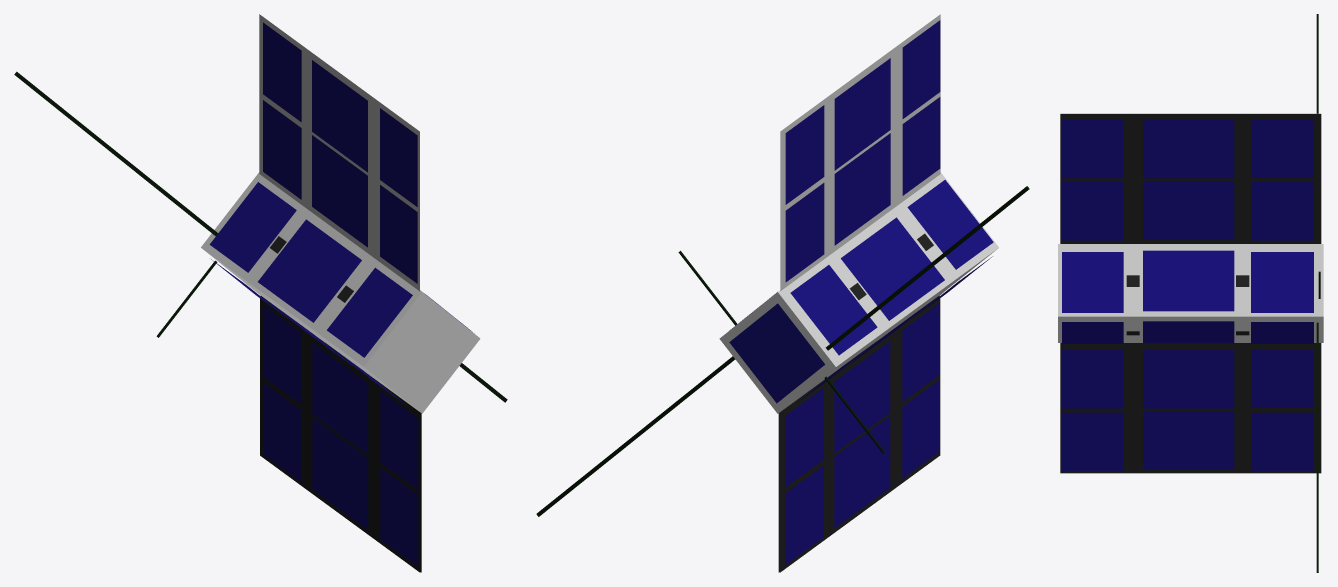
File: lemur.obj
3 views of the same model, side by side, from view 1: azimuth 30°, elevation 25°; view 2: azimuth 150°, elevation 25°; view 3: azimuth 270°, elevation 25° (orthographic). The views are drawn at different scales.
Parts seen in each view (by area): view 1: Cube, Plane.064, Plane.069, ReducedSolarCell.035, ReducedSolarCell.022, ReducedSolarCell.023, ReducedSolarCell.028, ReducedSolarCell.029, ReducedSolarCell.033, ReducedSolarCell.034, ReducedSolarCell.025, ReducedSolarCell.019 (+7 smaller); view 2: Cube, Plane.064, Plane.069, ReducedSolarCell.035, ReducedSolarCell.036, ReducedSolarCell.028, ReducedSolarCell.029, ReducedSolarCell.022, ReducedSolarCell.023, ReducedSolarCell.033, ReducedSolarCell.034, ReducedSolarCell.025 (+9 smaller); view 3: Plane.141, Plane.142, Cube, ReducedSolarCell.014, ReducedSolarCell.004, ReducedSolarCell.010, ReducedSolarCell.011, ReducedSolarCell.005, ReducedSolarCell.012, ReducedSolarCell.013, ReducedSolarCell.003, ReducedSolarCell (+10 smaller).
Part boxes in pixels (x1,y1,x2,y2): Cube: [201, 172, 480, 413]; Plane.064: [259, 14, 419, 291]; Plane.069: [260, 296, 420, 572]; ReducedSolarCell.035: [258, 219, 361, 322]; ReducedSolarCell.022: [312, 418, 368, 529]; ReducedSolarCell.023: [312, 343, 368, 454]; ReducedSolarCell.028: [312, 135, 367, 247]; ReducedSolarCell.029: [312, 60, 367, 172]; ReducedSolarCell.033: [209, 182, 296, 272]; ReducedSolarCell.034: [327, 267, 412, 357]; ReducedSolarCell.025: [263, 22, 301, 122]; ReducedSolarCell.019: [263, 305, 301, 404]; Cube: [719, 173, 998, 413]; Plane.064: [780, 14, 940, 290]; Plane.069: [779, 296, 940, 572]; ReducedSolarCell.035: [841, 217, 944, 320]; ReducedSolarCell.036: [729, 303, 824, 403]; ReducedSolarCell.028: [834, 133, 890, 245]; ReducedSolarCell.029: [834, 58, 890, 170]; ReducedSolarCell.022: [834, 416, 890, 528]; ReducedSolarCell.023: [834, 341, 890, 453]; ReducedSolarCell.033: [790, 265, 877, 355]; ReducedSolarCell.034: [907, 180, 993, 269]; ReducedSolarCell.025: [785, 105, 824, 204]; Plane.141: [1060, 343, 1321, 473]; Plane.142: [1060, 114, 1321, 243]; Cube: [1058, 244, 1323, 342]; ReducedSolarCell.014: [1143, 250, 1234, 311]; ReducedSolarCell.004: [1143, 119, 1234, 178]; ReducedSolarCell.010: [1143, 350, 1234, 408]; ReducedSolarCell.011: [1143, 411, 1234, 469]; ReducedSolarCell.005: [1143, 181, 1234, 239]; ReducedSolarCell.012: [1251, 252, 1313, 312]; ReducedSolarCell.013: [1062, 252, 1123, 312]; ReducedSolarCell.003: [1062, 119, 1123, 178]; ReducedSolarCell: [1251, 119, 1313, 177].
Bounding box in the file's own units: 0.9 × 0.7849 × 0.5176.
